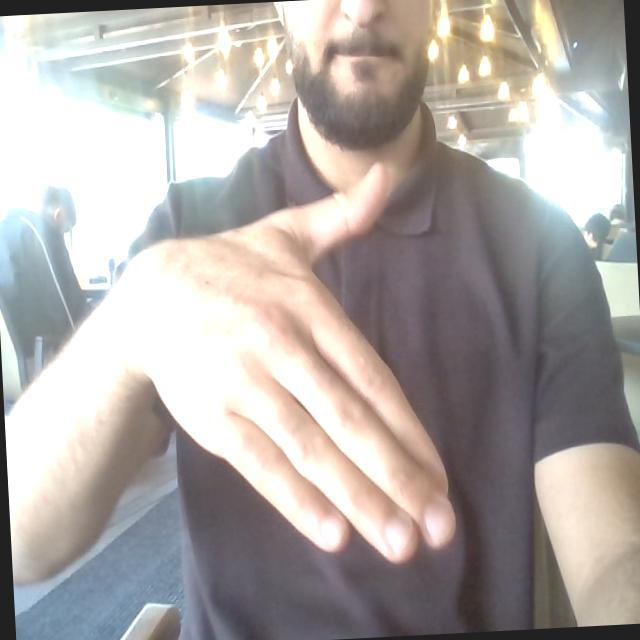Hand: (119, 167, 454, 562)
